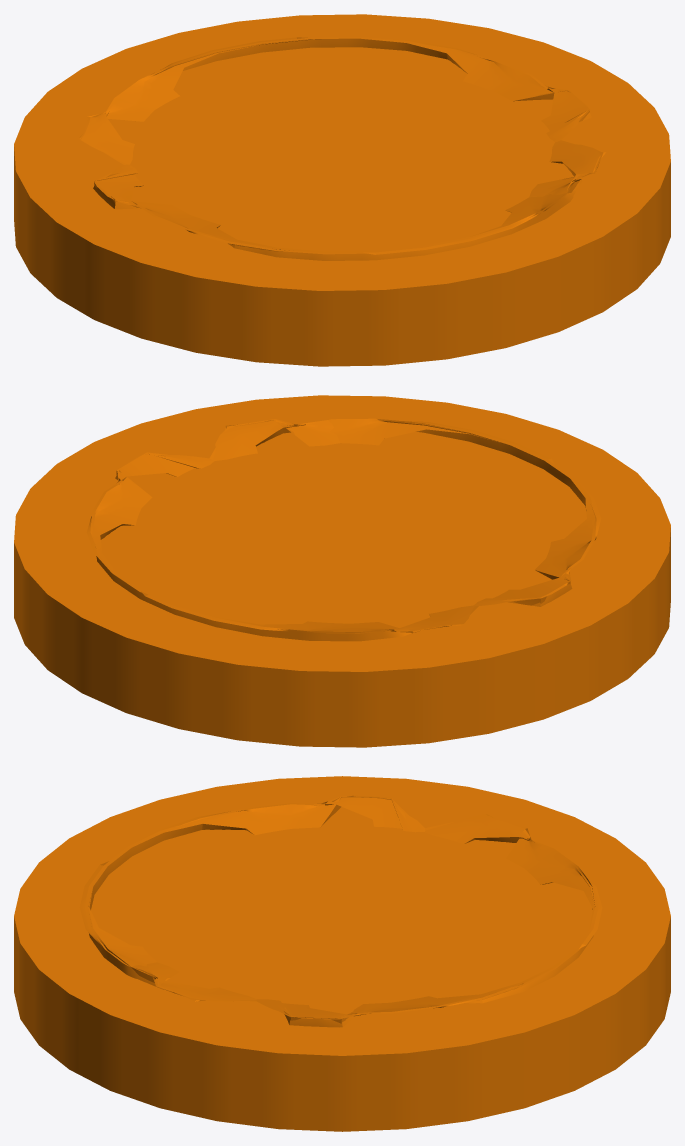
Rendered from coin 3.fbx.
3 views of the same model, one above another, from view 1: azimuth 30°, elevation 25°; view 2: azimuth 150°, elevation 25°; view 3: azimuth 270°, elevation 25° (orthographic).
Parts seen in each view (by area): view 1: Cylinder; view 2: Cylinder; view 3: Cylinder.
Part boxes in pixels (x1,y1,x2,y2): Cylinder: (14, 14, 670, 366); Cylinder: (14, 395, 670, 747); Cylinder: (14, 776, 670, 1131).
Bounding box in the file's own units: 250 × 35.06 × 248.
